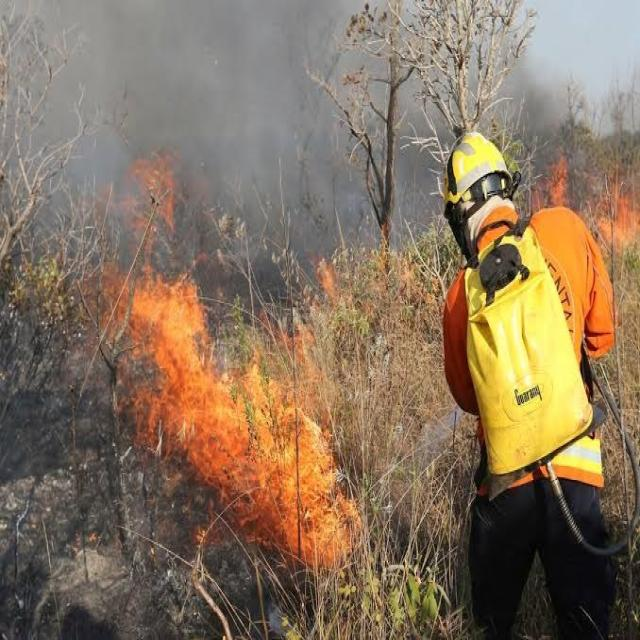fire: (204, 400, 342, 553), (131, 280, 201, 443)
